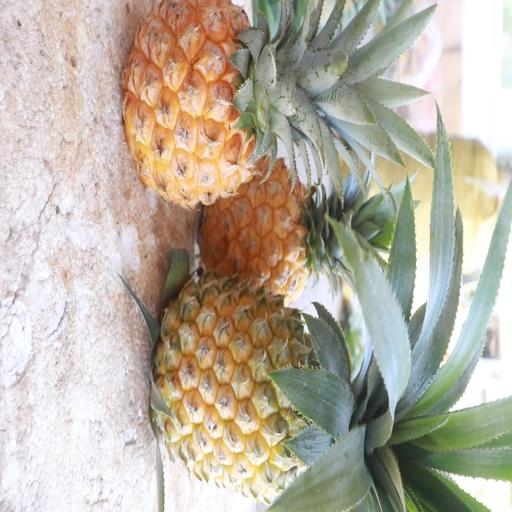Pineapple - v8 v1: (145, 268, 392, 498), (118, 2, 358, 212), (196, 146, 371, 308)
